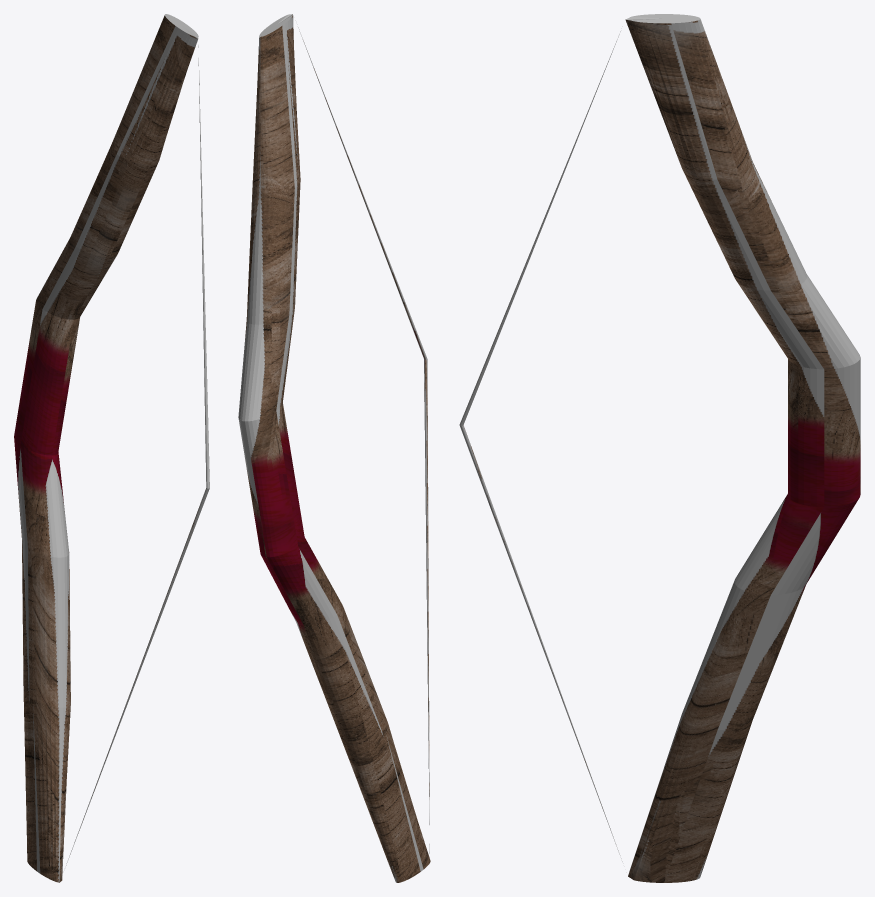
File: Protagonista115.obj
3 views of the same model, side by side, from view 1: azimuth 30°, elevation 25°; view 2: azimuth 150°, elevation 25°; view 3: azimuth 270°, elevation 25° (orthographic). The views are drawn at different scales.
Visible parts, largest first — view 1: Cilindro; view 2: Cilindro; view 3: Cilindro.
Boxes of the visible parts, x1=… form: Cilindro: x1=14, y1=14, x2=209, y2=882; Cilindro: x1=238, y1=14, x2=430, y2=882; Cilindro: x1=459, y1=14, x2=860, y2=882.
Bounding box in the file's own units: 0.1877 × 0.9705 × 0.376.
1 material, 1 textured.
